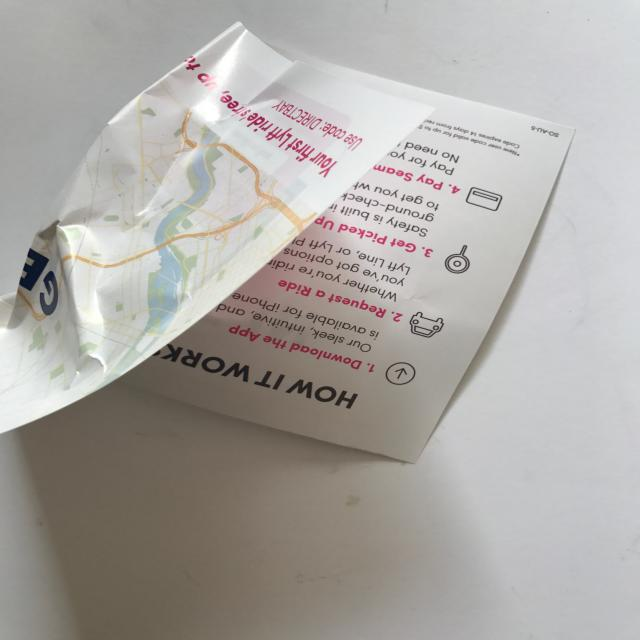paper: (1, 21, 576, 464)
